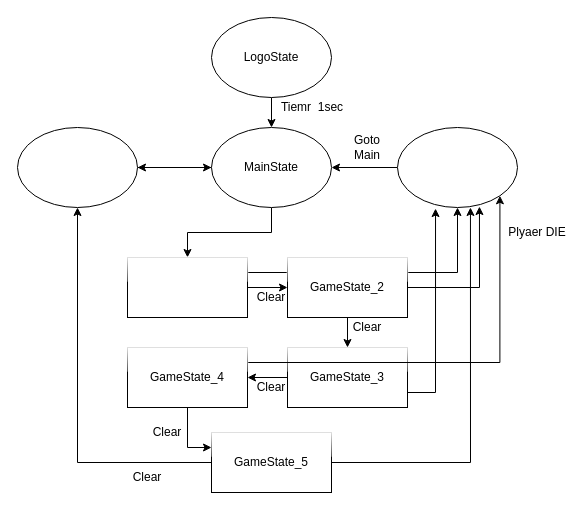
This 585x510 diagram has some shape labels left out. Each missing label, with the centre of its shape:
Dead_state: the point at 457,167
GameState_1: the point at 187,287
RankState: the point at 77,167
